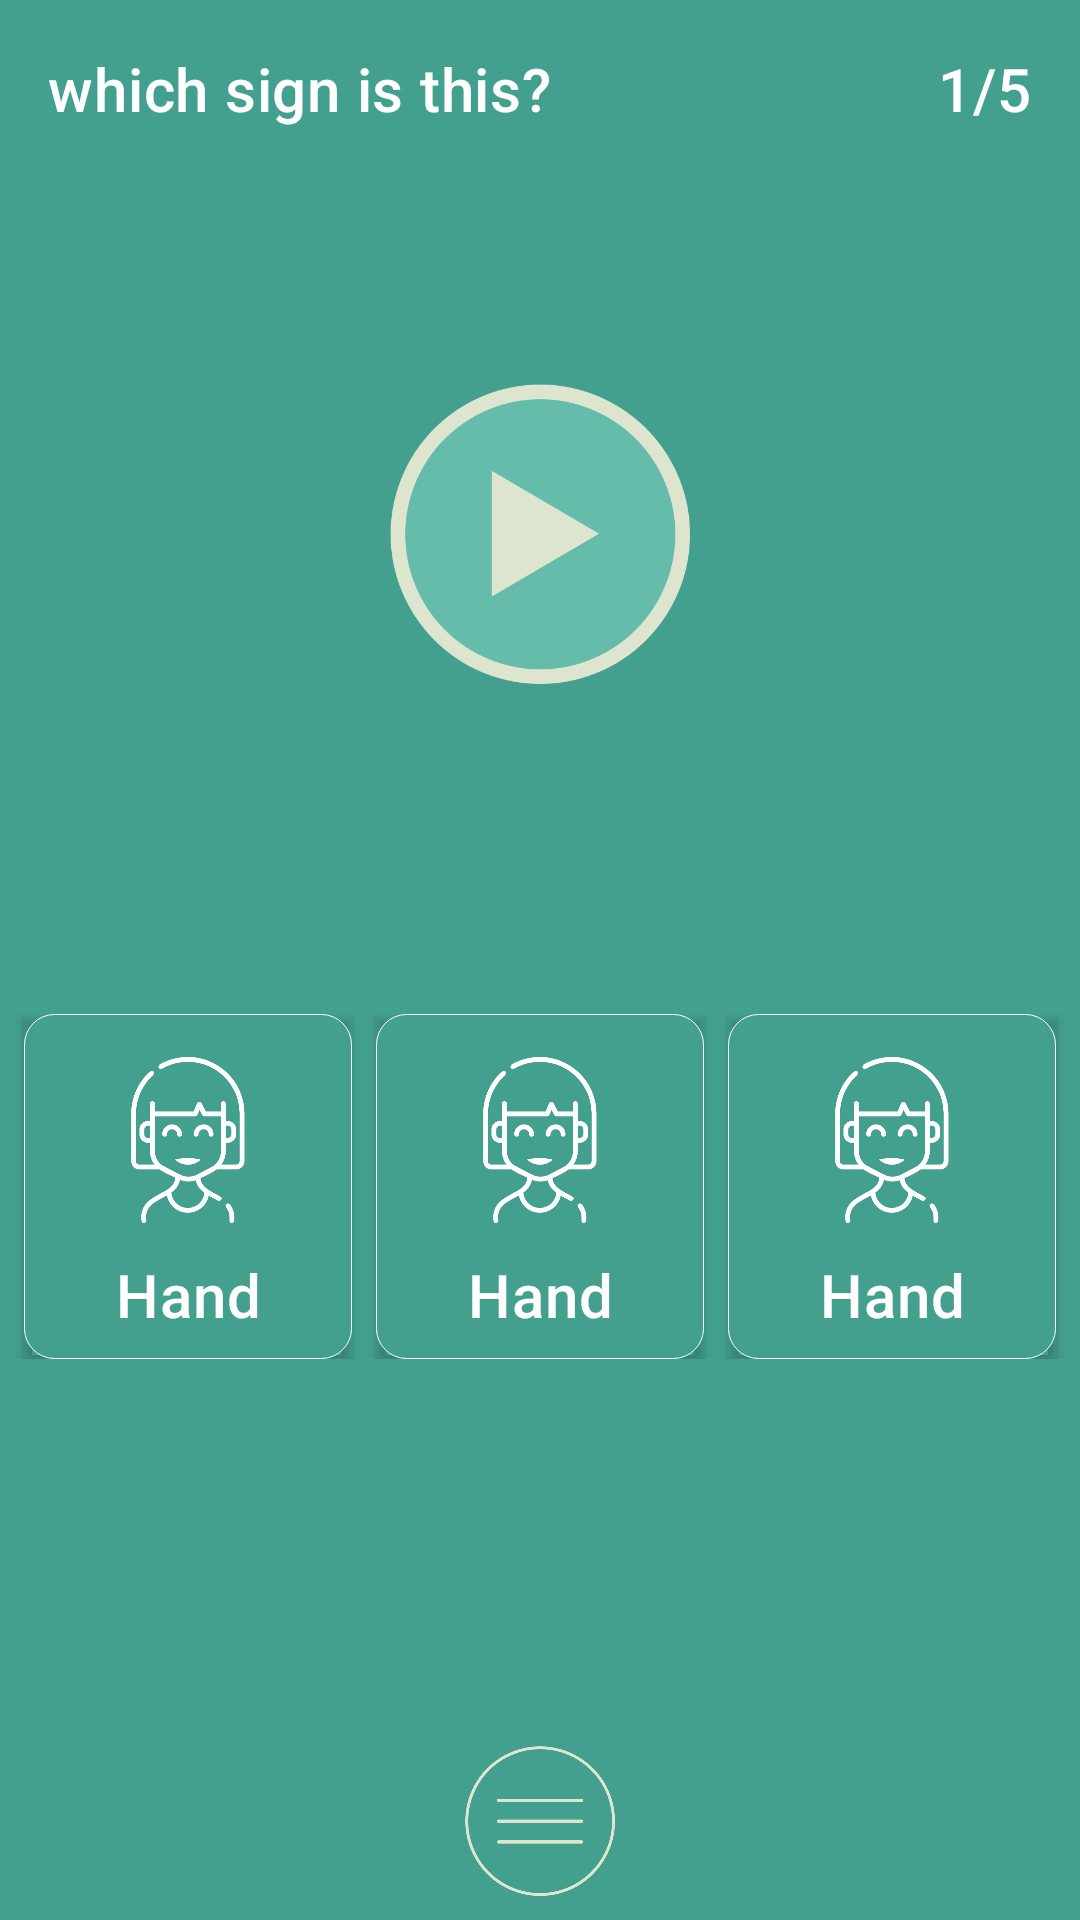

Icon bounding boxes for this 1080px x 1920px phone screenshot, format region(x1, y1, x2, y2):
girl: region(131, 1057, 245, 1223), region(483, 1057, 597, 1223), region(835, 1057, 949, 1223)
play: region(390, 384, 690, 684)
